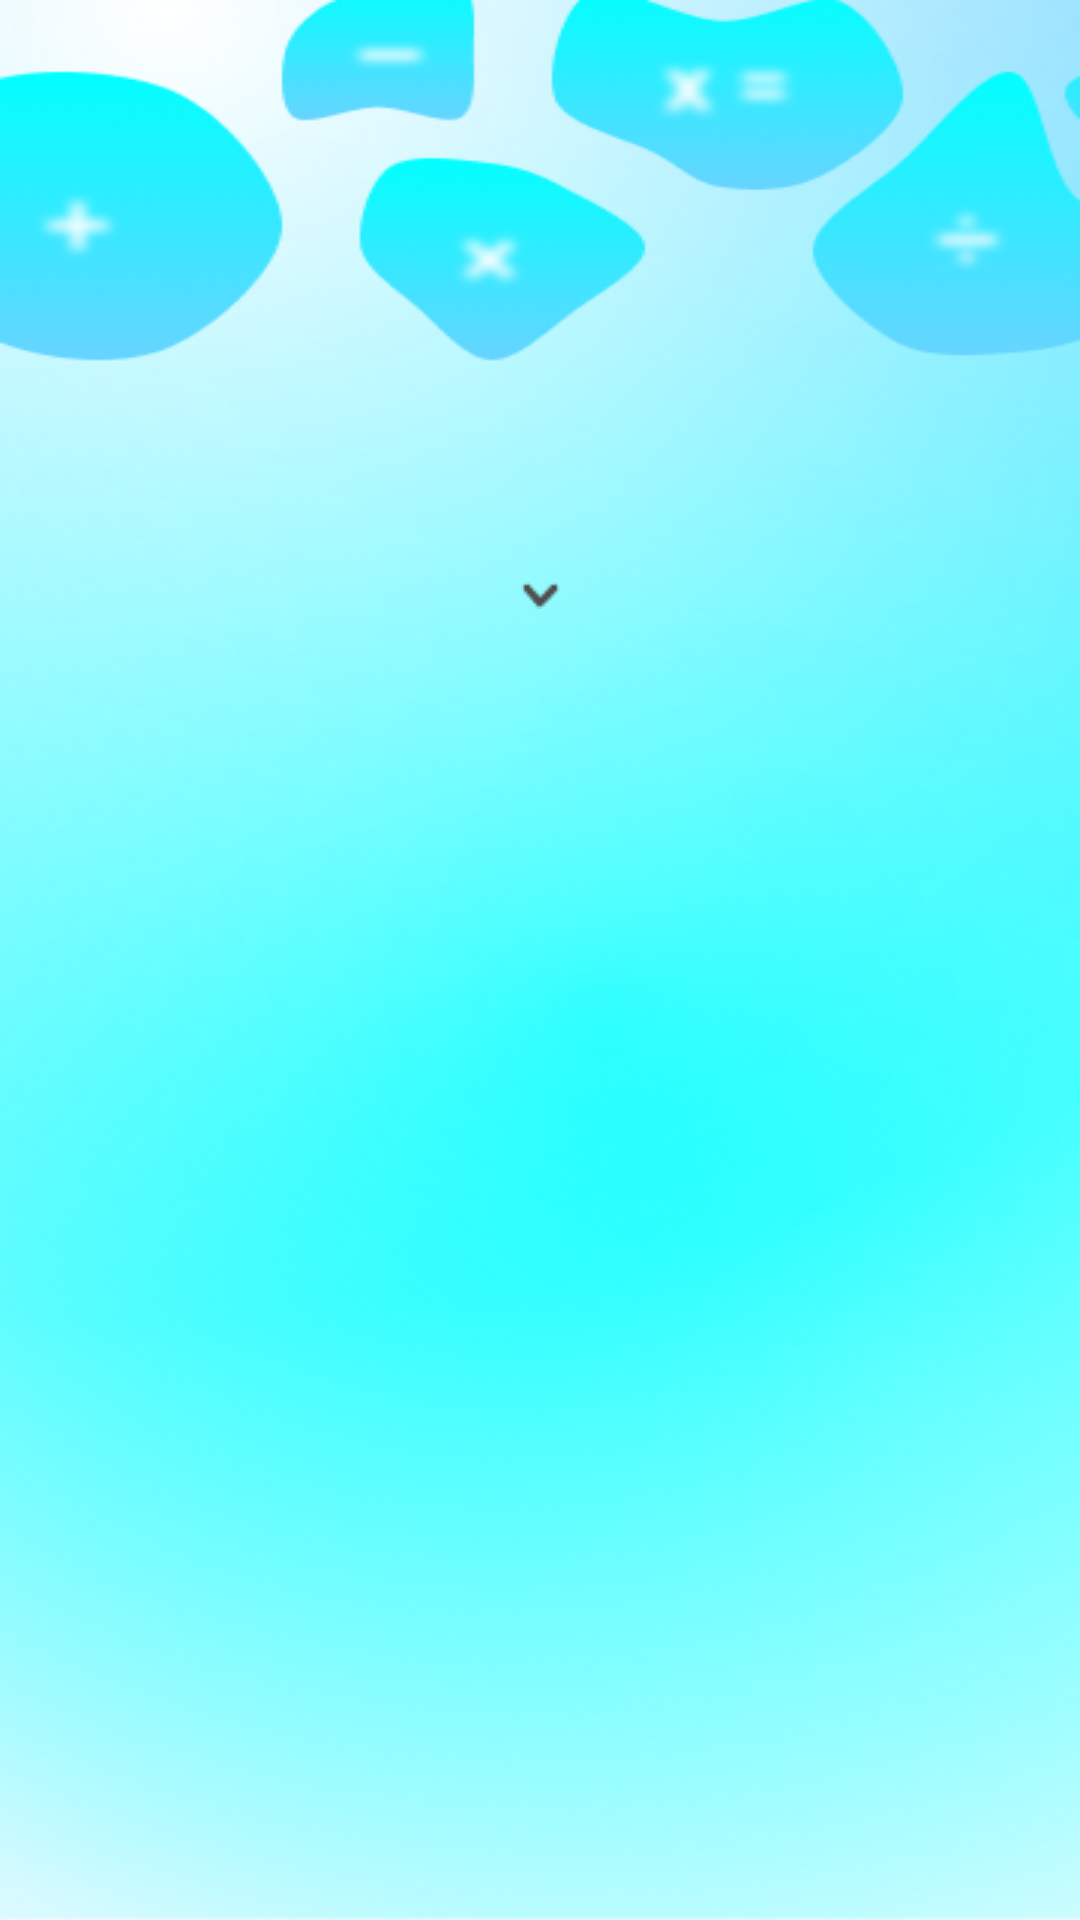

Named icons in this screenshot (1080*1920) and their centers, point (x, y):
arrow down: point (540, 596)
